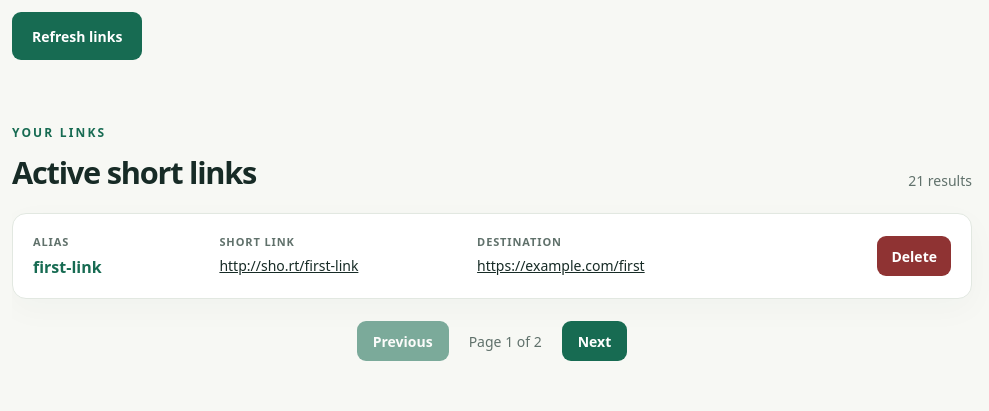
Test: ShortLinkList › accepts a clamped page after deletion and uses it for subsequent reloads
The width and height of the screenshot is (989, 411).
Expected: the text "first-link" is shown, x1=33 y1=256 x2=102 y2=278
Click the button "Next". click: (594, 341)
box: x1=562 y1=321 x2=627 y2=361
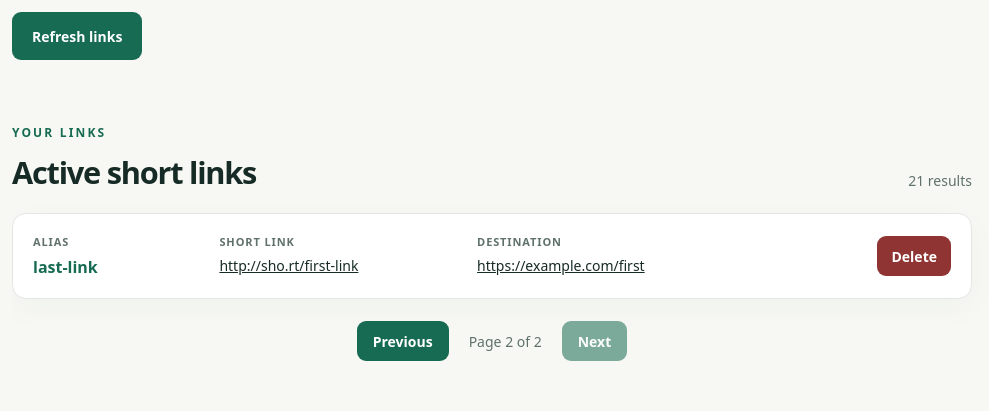
Expected: the text "last-link" is shown, x1=33 y1=256 x2=98 y2=278
Click the button "Delete". click: (914, 256)
box: x1=878 y1=236 x2=951 y2=276
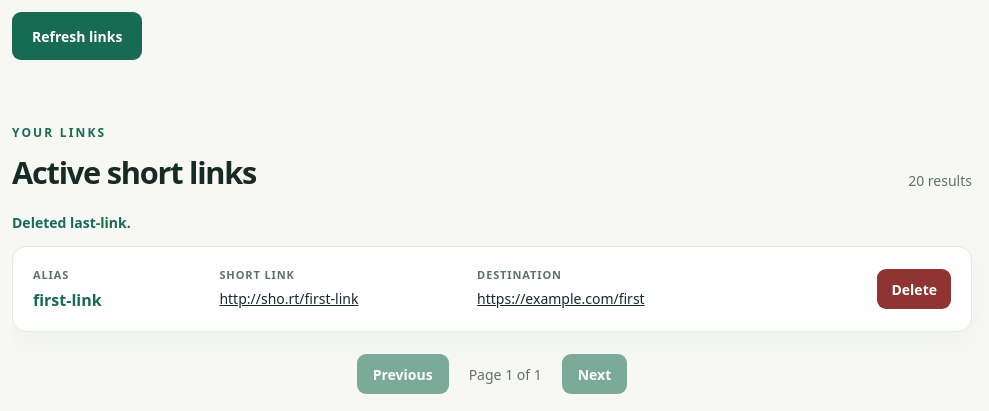
Expected: the text "Page 1 of 1" is shown, x1=469 y1=364 x2=542 y2=384
Click the button "Delete". click: (914, 289)
box: x1=878 y1=269 x2=951 y2=309
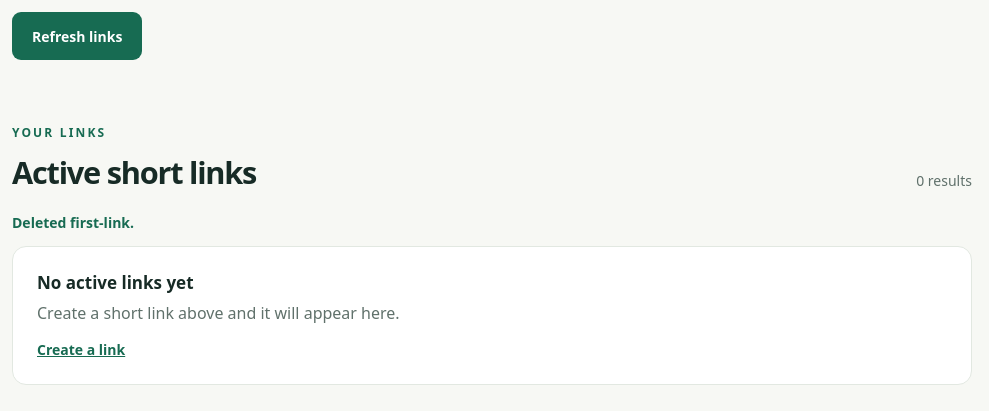
Expected: the heading "No active links yet" is shown, x1=37 y1=271 x2=194 y2=294
